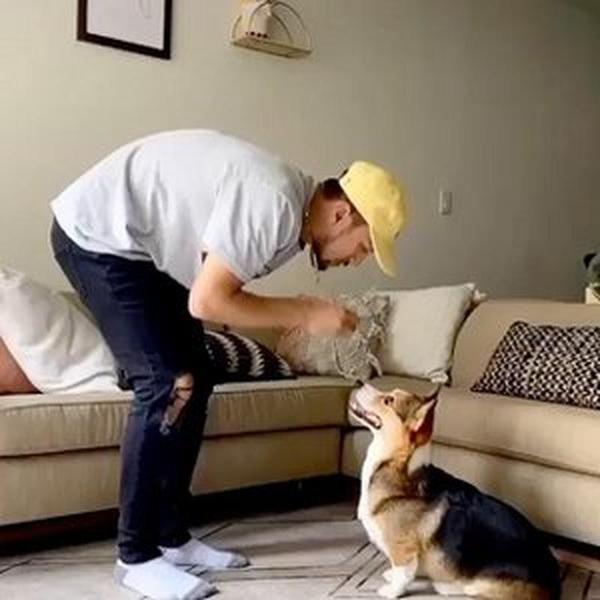allqu: (332, 367, 577, 600)
